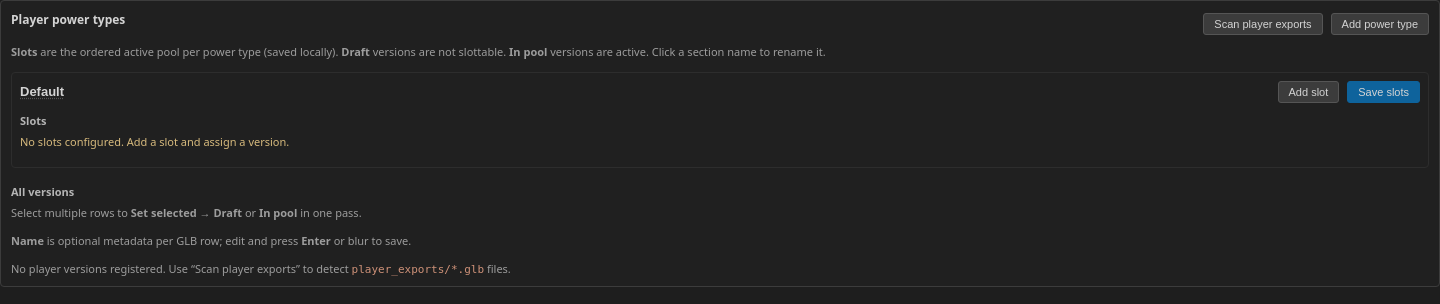
RegistryPlayerPowerTypesSection › saves renamed label on Enter key
Click the button with test id "player-pt-name-btn-default".
click(42, 92)  # box [20,82,64,101]
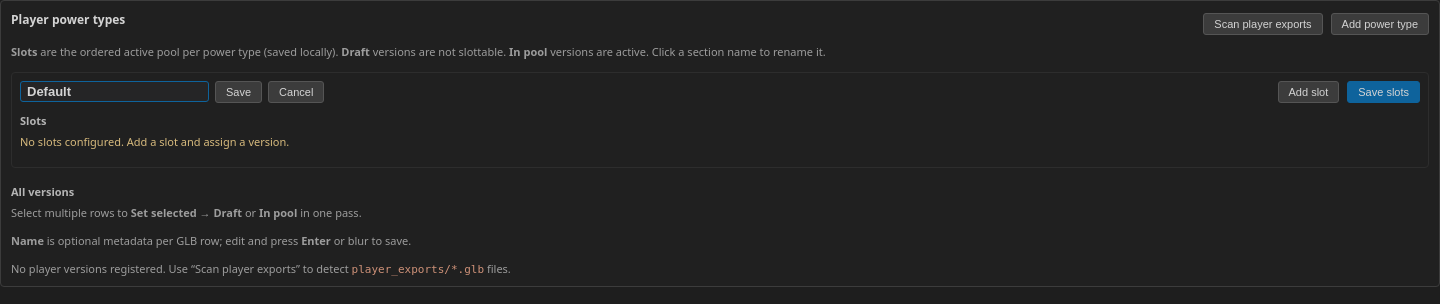
Replace the text in the field with test id "player-pt-name-input-default" with "Water Type" at {"x": 114, "y": 92}, box [20,81,209,102]
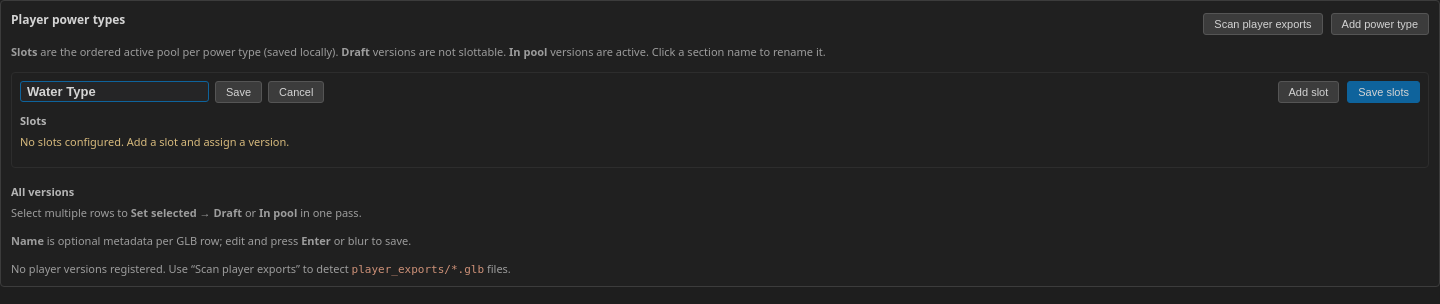
Press Enter in the field with test id "player-pt-name-input-default", box [20,81,209,102]
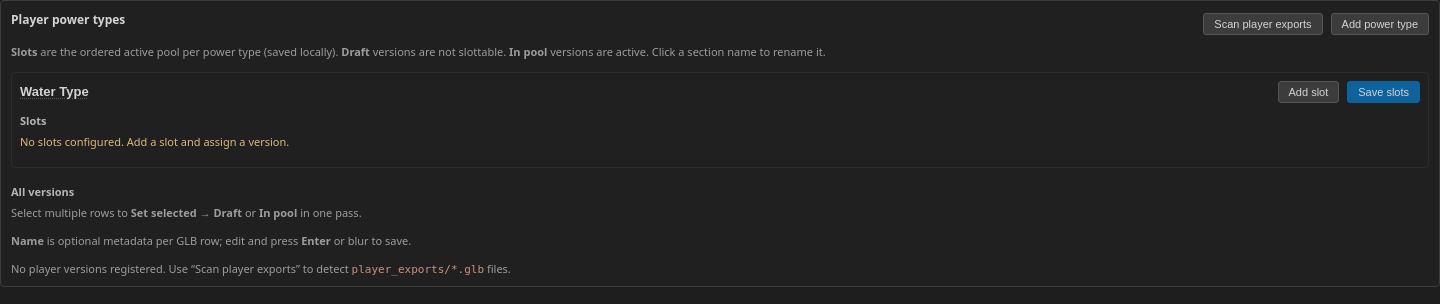
Check: the button with test id "player-pt-name-btn-default" reads "Water Type", box [20,82,89,101]
